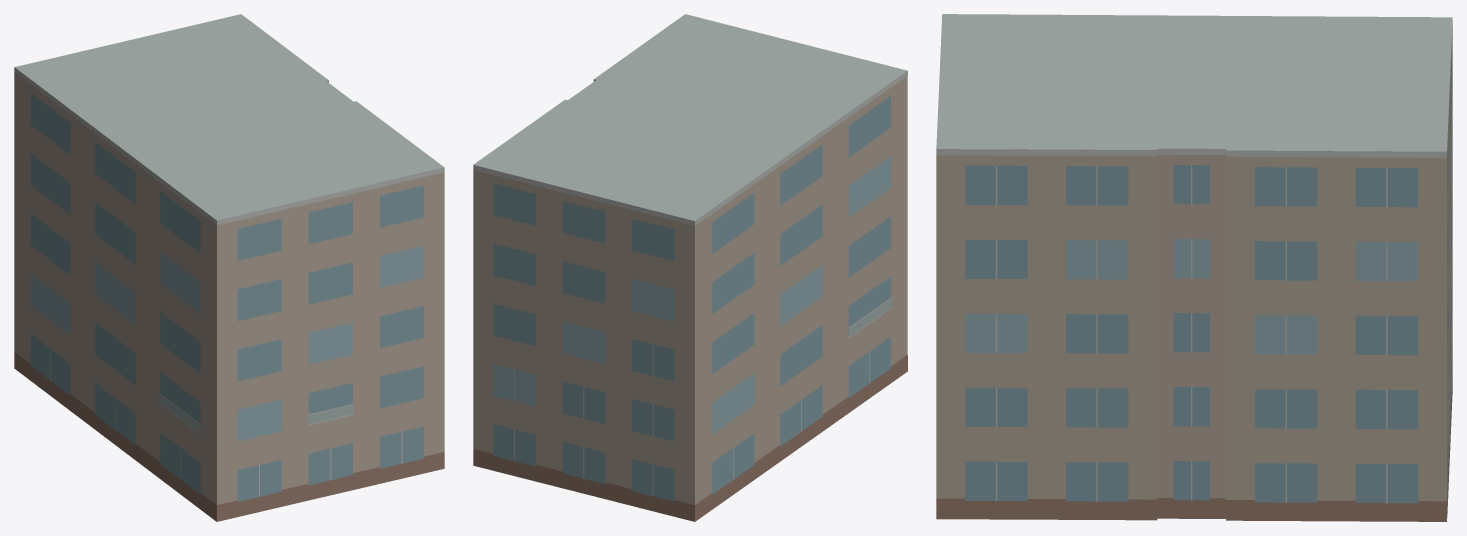
Rendered from survey-upis-32999978.glb.
3 renders of one model, left to right at view 1: azimuth 30°, elevation 25°; view 2: azimuth 150°, elevation 25°; view 3: azimuth 270°, elevation 25°, orthographic. The views are drawn at different scales.
Visible parts, largest first — view 1: survey-upis-32999978.tmp; view 2: survey-upis-32999978.tmp; view 3: survey-upis-32999978.tmp.
Boxes of the visible parts, bbox=[...] form: survey-upis-32999978.tmp: bbox=[14, 14, 444, 521]; survey-upis-32999978.tmp: bbox=[473, 14, 907, 521]; survey-upis-32999978.tmp: bbox=[936, 14, 1452, 521].
Size of the model in its own units: 11.6 by 14.5 by 18.34.
